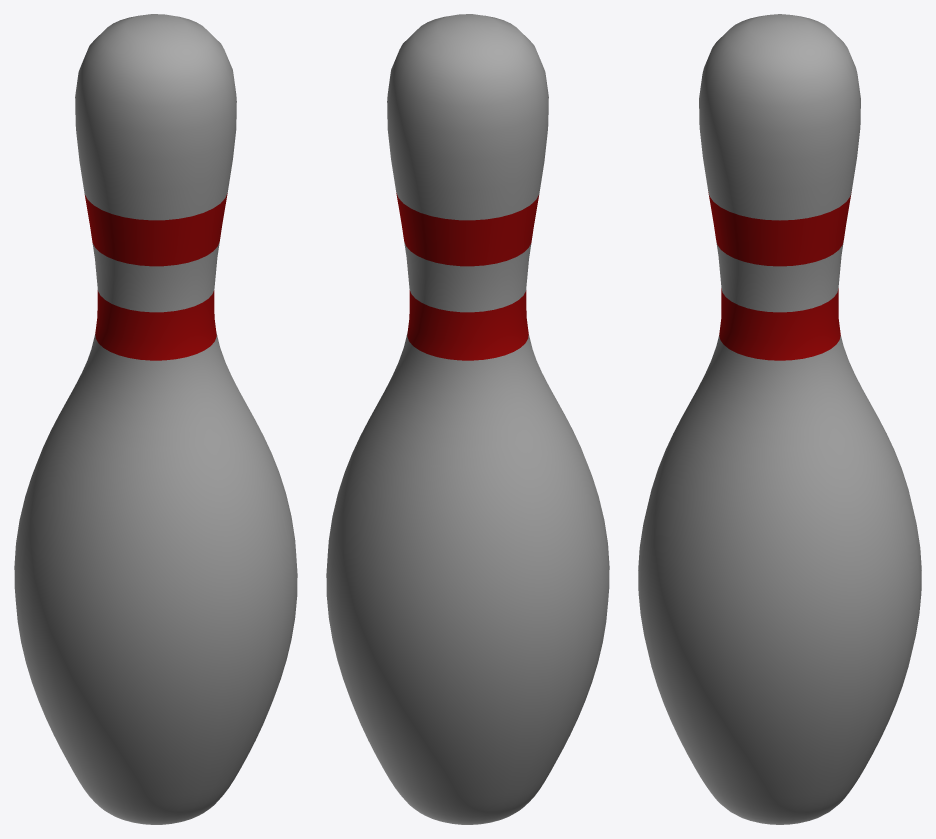
Rendered from pin.obj.
The picture shows the model from 3 angles, left to right: view 1: azimuth 30°, elevation 25°; view 2: azimuth 150°, elevation 25°; view 3: azimuth 270°, elevation 25°; orthographic projection.
Visible parts, largest first — view 1: pin_Mesh; view 2: pin_Mesh; view 3: pin_Mesh.
Part boxes in pixels (x1=…): pin_Mesh: x1=14, y1=14, x2=297, y2=824; pin_Mesh: x1=326, y1=14, x2=609, y2=824; pin_Mesh: x1=638, y1=14, x2=921, y2=824.
Size of the model in its own units: 1.24 by 3.8 by 1.24.
